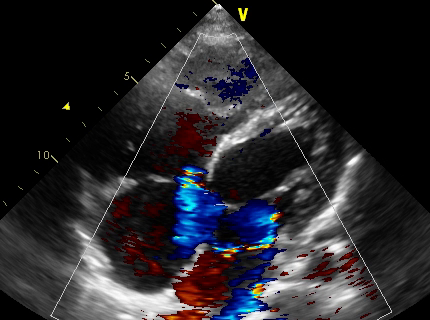TR: (125, 165, 209, 225)
